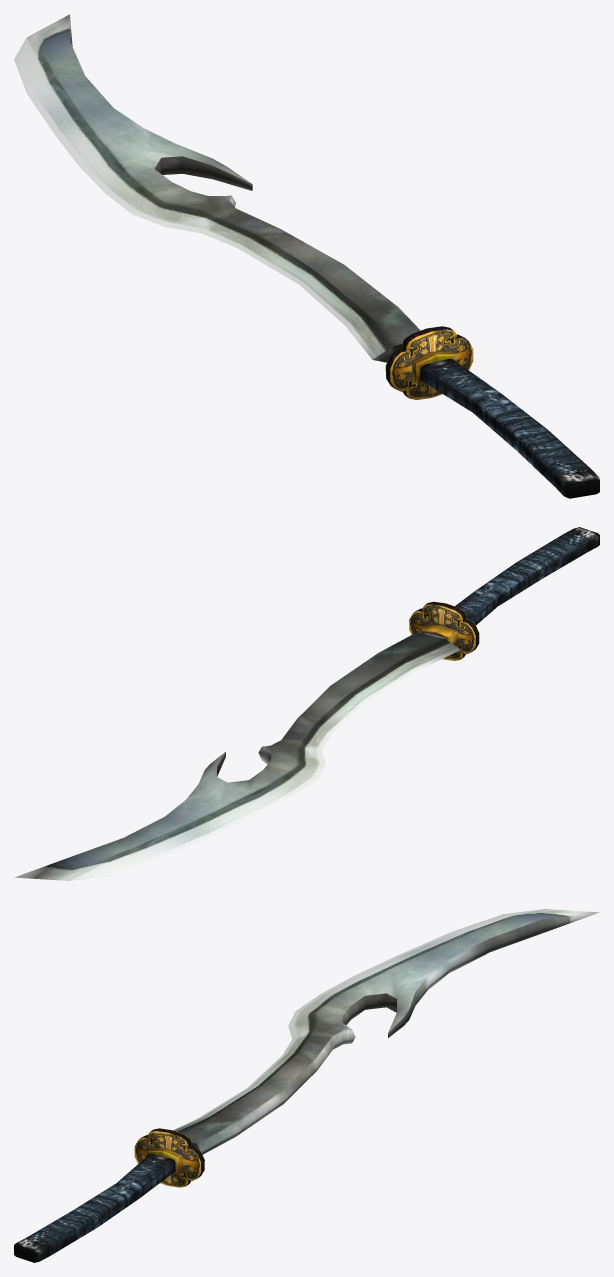
Rendered from sword_curvature_sword_sword1.glb.
3 views of the same model, one above another, from view 1: azimuth 30°, elevation 25°; view 2: azimuth 150°, elevation 25°; view 3: azimuth 330°, elevation 25° (orthographic). The views are drawn at different scales.
Size of the model in its own units: 0.2436 by 0.0973 by 1.64.
1 material, 1 textured.
